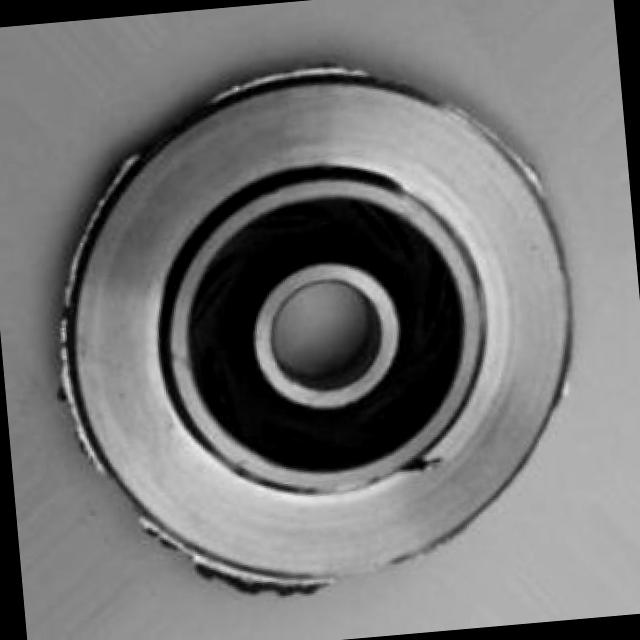Defect: (396, 448, 446, 482)
